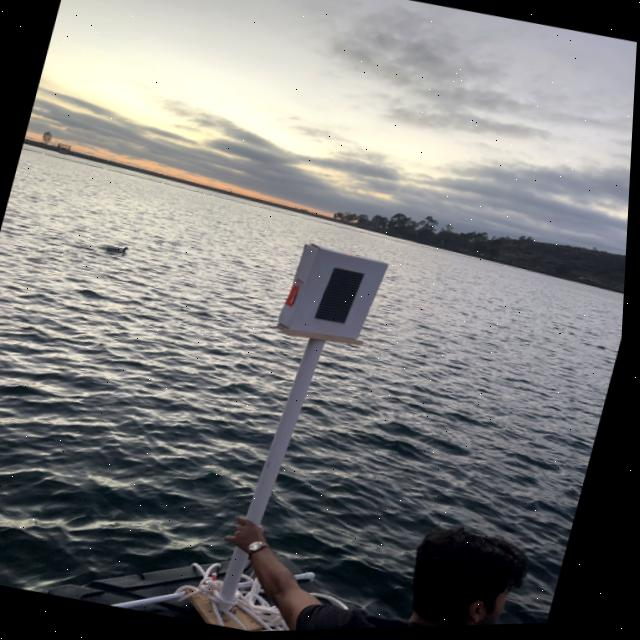led: (297, 247, 380, 347)
